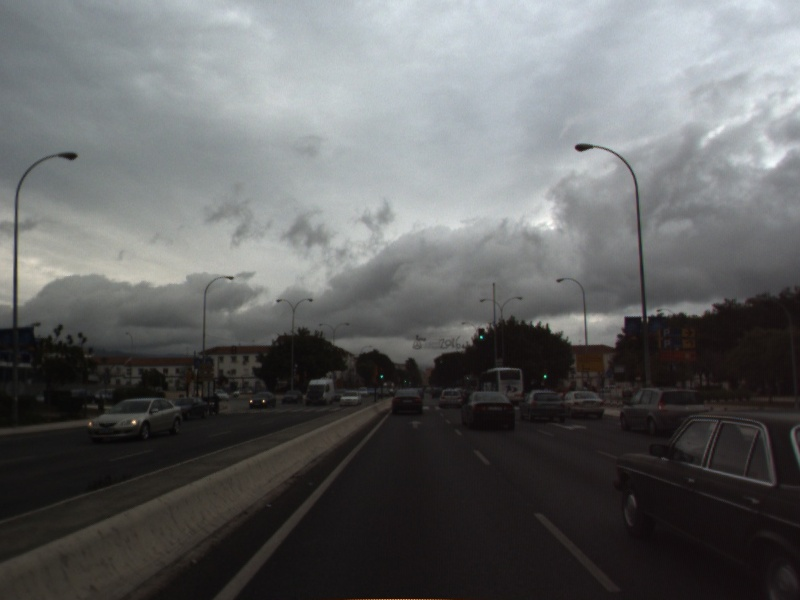STRAIGHT: (405, 418, 425, 430)
STRAIGHT_RIGHT: (546, 420, 590, 433)
